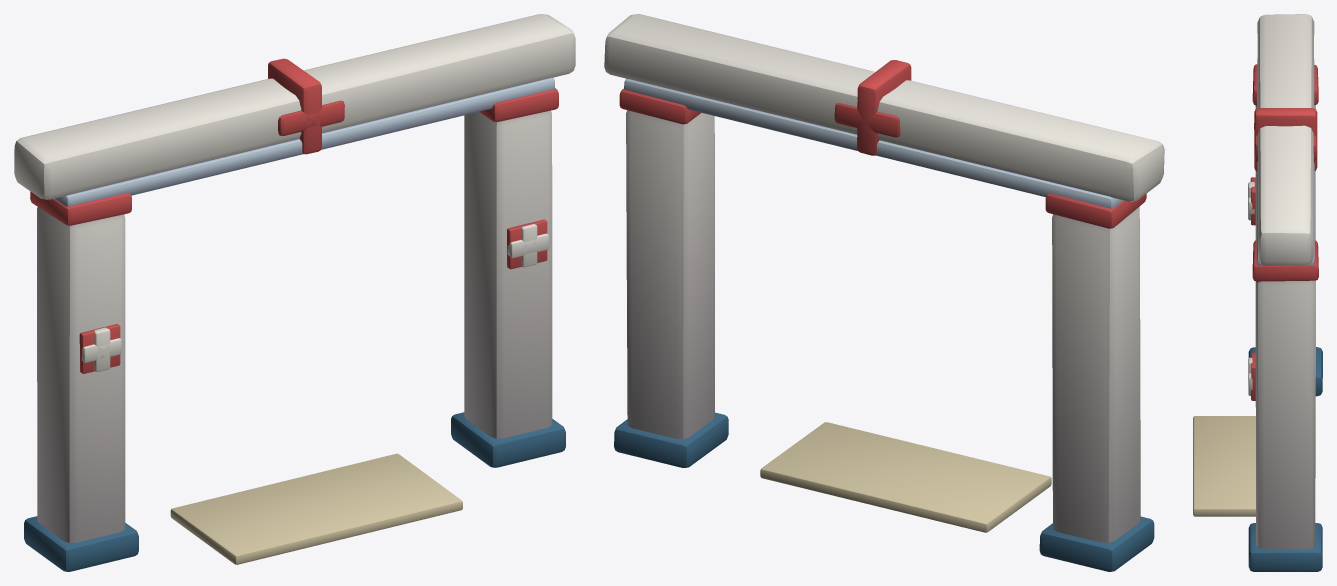
3 views of the same model, side by side, from view 1: azimuth 30°, elevation 25°; view 2: azimuth 150°, elevation 25°; view 3: azimuth 270°, elevation 25° (orthographic). The views are drawn at different scales.
Parts seen in each view (by area): view 1: gate_9ac62196; view 2: gate_9ac62196; view 3: gate_9ac62196.
Boxes of the visible parts, bbox=[...] form: gate_9ac62196: bbox=[14, 14, 575, 571]; gate_9ac62196: bbox=[604, 14, 1164, 571]; gate_9ac62196: bbox=[1193, 14, 1322, 571].
Size of the model in its own units: 5.65 by 4.29 by 1.4.
